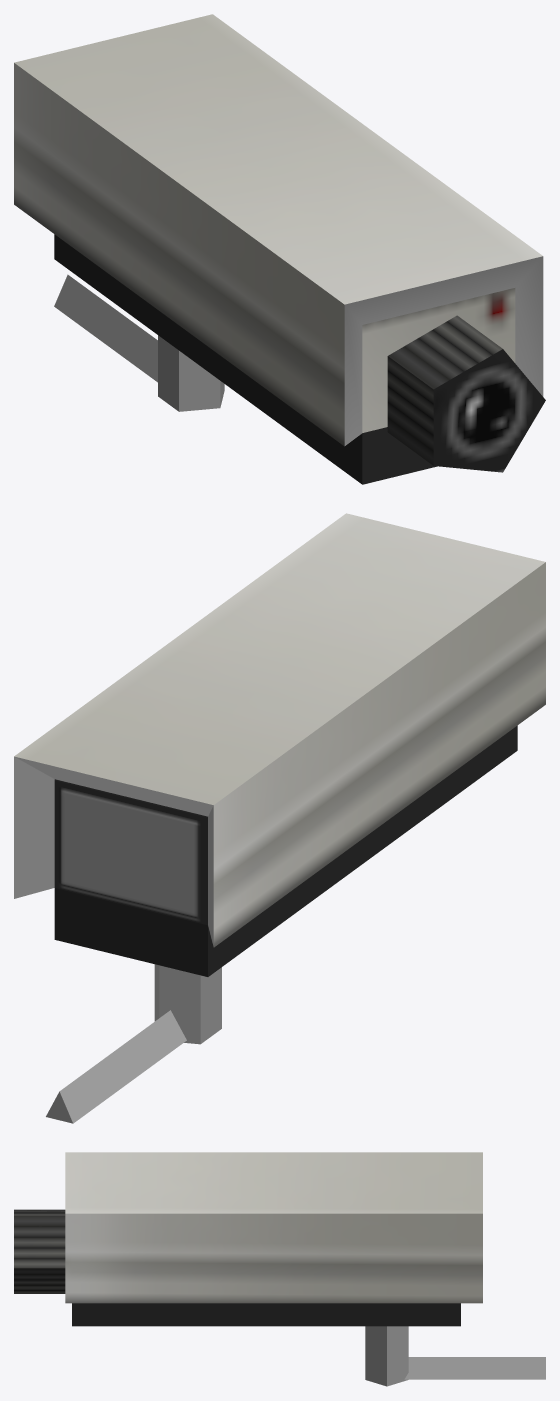
Rendered from Security_Camera.fbx.
The picture shows the model from 3 angles, top to bottom: view 1: azimuth 30°, elevation 25°; view 2: azimuth 150°, elevation 25°; view 3: azimuth 270°, elevation 25°; orthographic projection. The views are drawn at different scales.
Visible parts, largest first — view 1: Security_Camera_1; view 2: Security_Camera_1; view 3: Security_Camera_1.
Part boxes in pixels (x1,y1,x2,y2): Security_Camera_1: (14, 14, 545, 484); Security_Camera_1: (14, 513, 545, 1123); Security_Camera_1: (14, 1152, 545, 1386).
Bounding box in the file's own units: 16.86 × 24.72 × 61.87.
